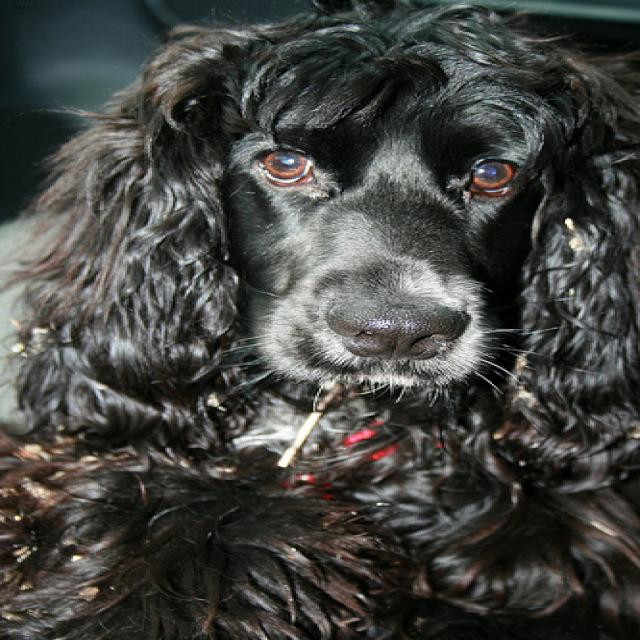dog-english_cocker_spaniel: (2, 1, 636, 637)
